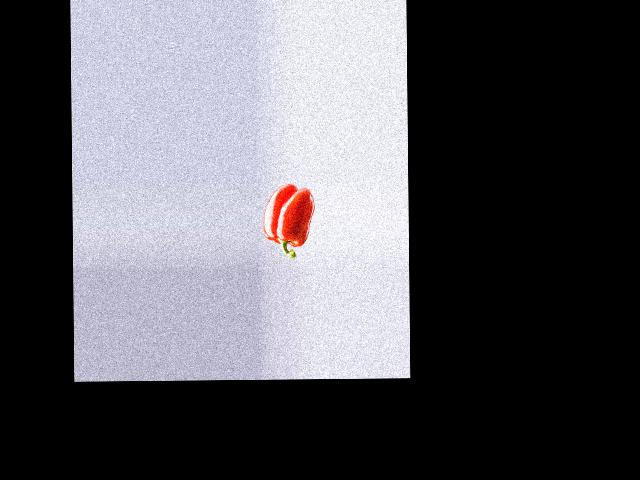bell_pepper: (260, 185, 316, 258)
